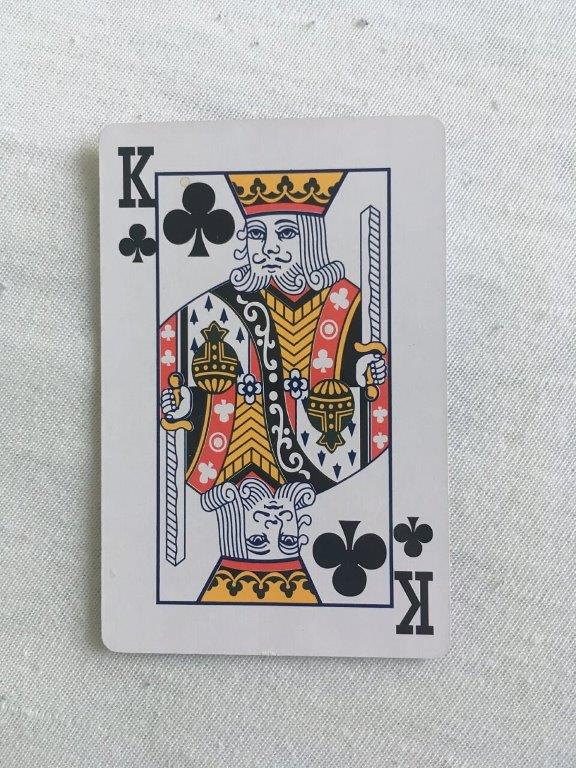KC: (96, 112, 454, 662)
